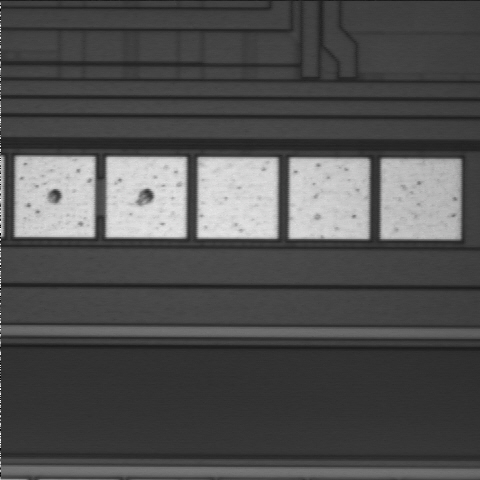pad: (106, 157, 186, 238), (198, 157, 278, 238), (15, 157, 95, 237), (289, 159, 369, 239), (381, 159, 459, 239)
